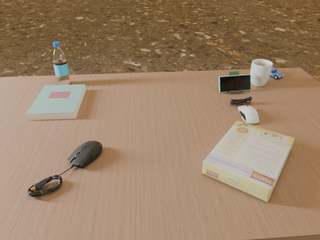book: (26, 84, 86, 120)
bottle: (53, 42, 71, 85)
box: (202, 121, 294, 202)
cup: (250, 59, 273, 87)
mouse: (67, 141, 102, 169), (238, 105, 259, 124)
phone: (219, 74, 251, 92)
toy_car: (270, 67, 284, 79)
